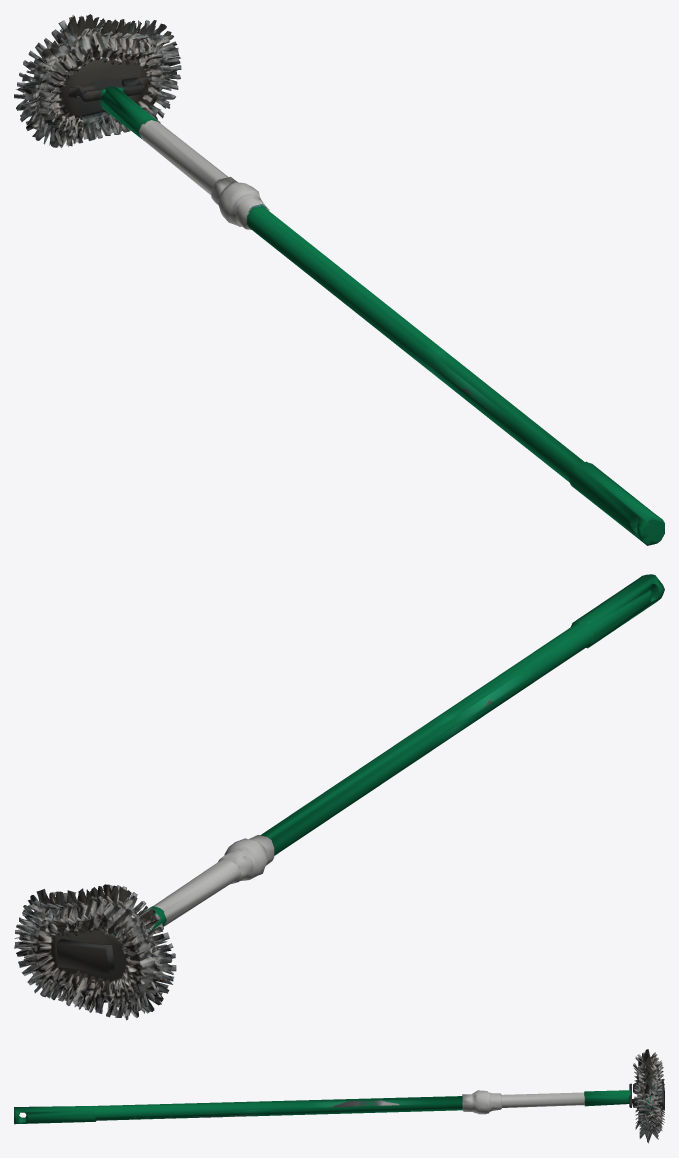
File: mixer+clean+brush.fbx
3 views of the same model, one above another, from view 1: azimuth 30°, elevation 25°; view 2: azimuth 150°, elevation 25°; view 3: azimuth 270°, elevation 25° (orthographic). The views are drawn at different scales.
Parts seen in each view (by area): view 1: meshes[0]; view 2: meshes[0]; view 3: meshes[0].
Boxes of the visible parts, x1,y1,x2,y2 form: meshes[0]: (14,14,664,545); meshes[0]: (14,574,664,1020); meshes[0]: (14,1049,664,1143).
Size of the model in its own units: 0.1621 by 0.127 by 0.998.
